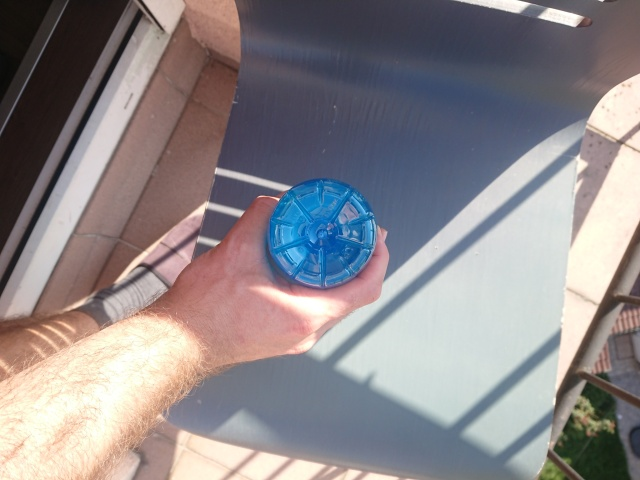Vindi Iso Sport Forest Strawberries 500mL: (263, 175, 380, 292)
